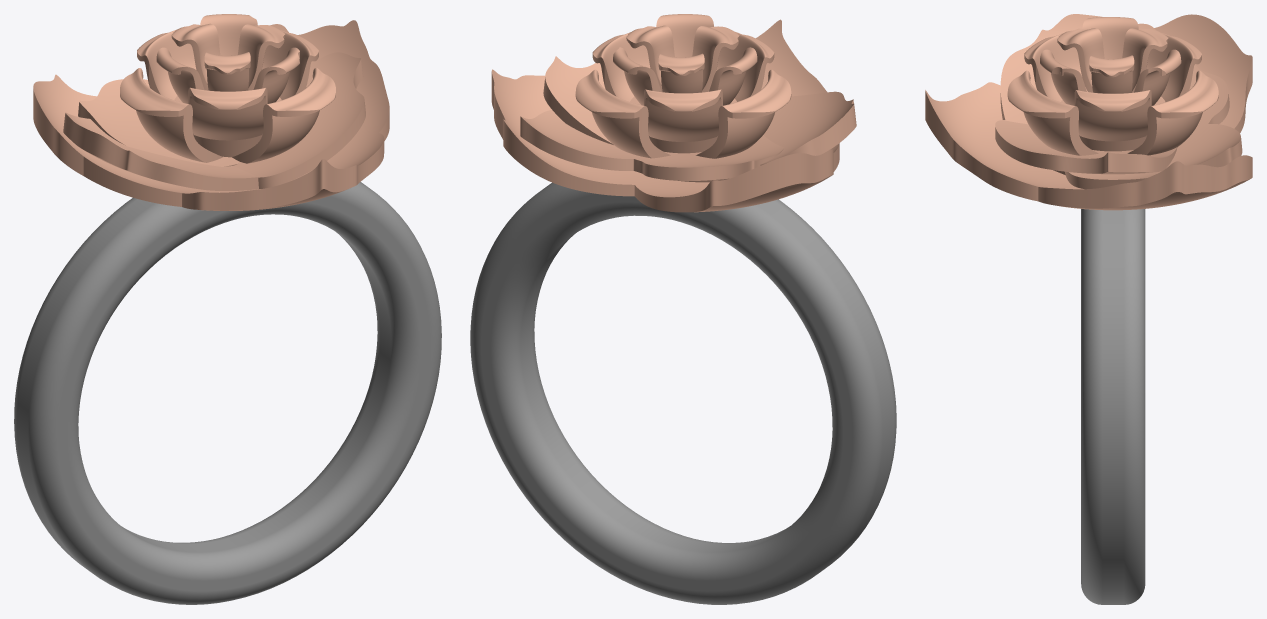
Rendered from bague.gltf.
The picture shows the model from 3 angles, left to right: view 1: azimuth 30°, elevation 25°; view 2: azimuth 150°, elevation 25°; view 3: azimuth 270°, elevation 25°; orthographic projection. The views are drawn at different scales.
Visible parts, largest first — view 1: anneau, deco; view 2: anneau, deco; view 3: deco, anneau.
Boxes of the visible parts, x1,y1,x2,y2 form: anneau: [14, 182, 441, 604]; deco: [33, 14, 389, 210]; anneau: [470, 182, 896, 604]; deco: [491, 14, 856, 212]; deco: [925, 14, 1252, 210]; anneau: [1081, 209, 1145, 604].
Bounding box in the file's own units: 1.67 × 2.15 × 1.18.
